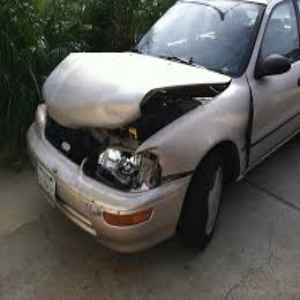bonnet: (52, 59, 164, 120)
head_lights: (91, 143, 165, 193)
